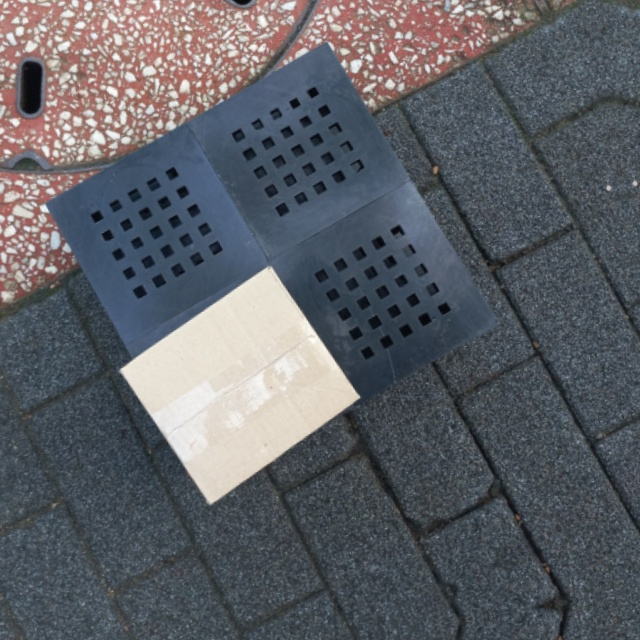box: (115, 262, 361, 509)
pallet: (39, 31, 511, 500)
